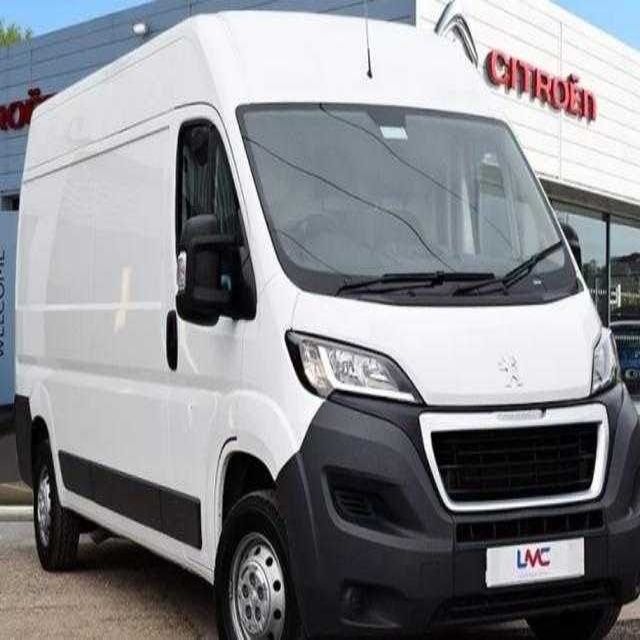Van: (14, 9, 640, 640)
